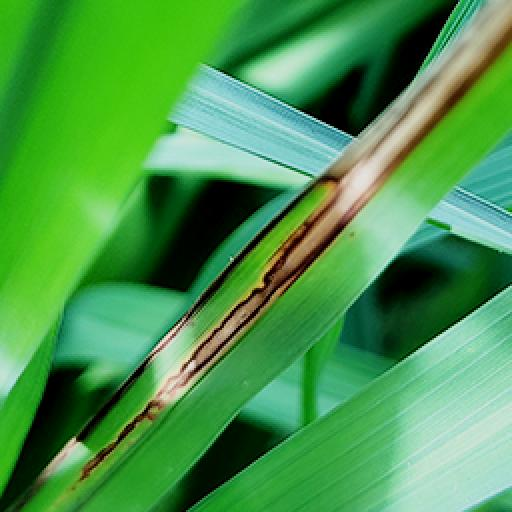Leaf Blast Disease: (42, 4, 510, 486)
